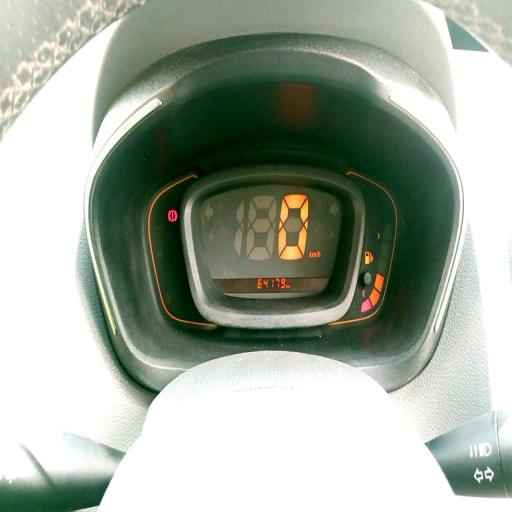brake_system_fault: (168, 209, 177, 222)
